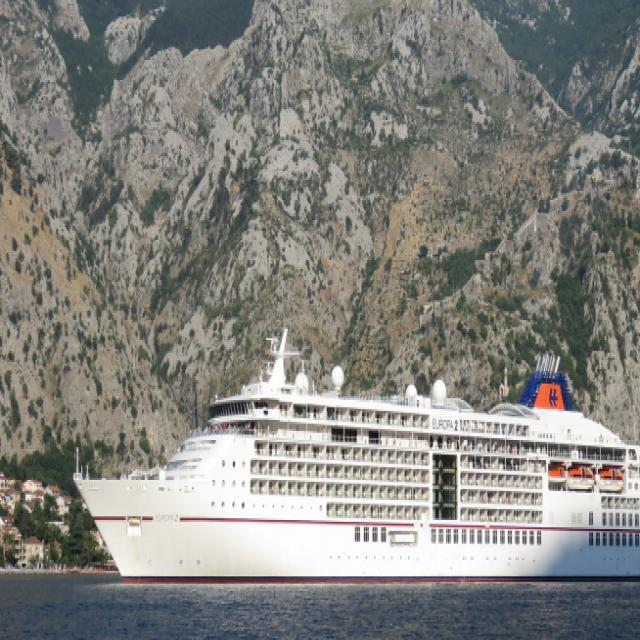cruises: (72, 317, 640, 590)
